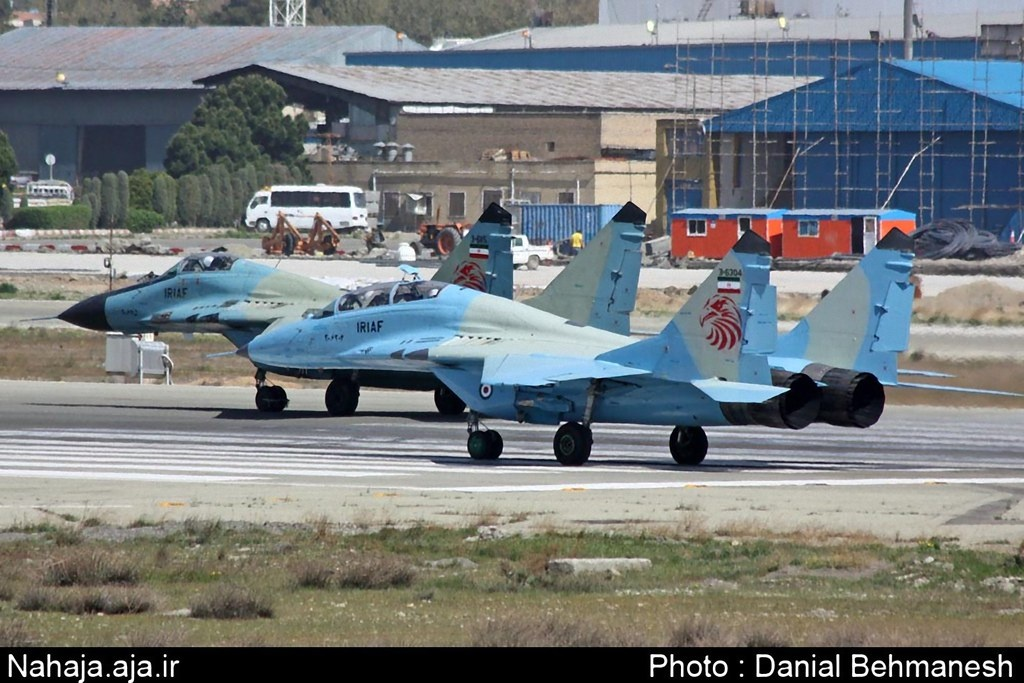Iran: (715, 274, 744, 293), (466, 241, 491, 258)
Mig-29: (247, 181, 939, 495), (47, 181, 286, 338)
